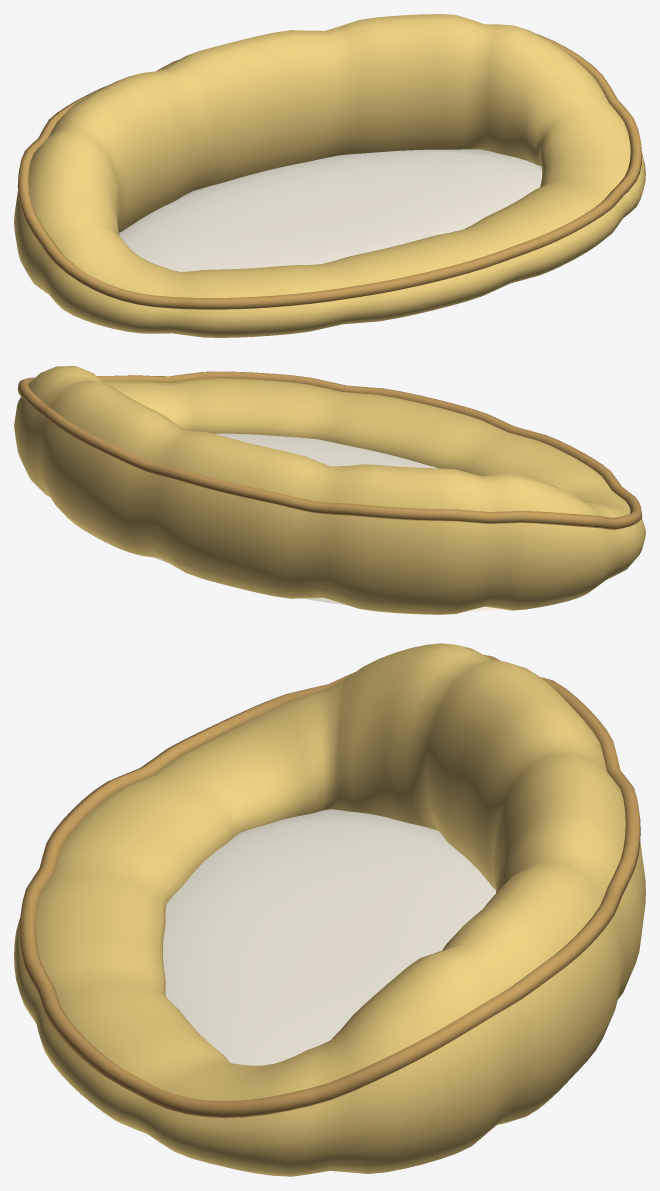
The model's file is bed.glb.
3 renders of one model, top to bottom at view 1: azimuth 30°, elevation 25°; view 2: azimuth 150°, elevation 25°; view 3: azimuth 270°, elevation 25°, orthographic. The views are drawn at different scales.
Parts seen in each view (by area): view 1: Bed; view 2: Bed; view 3: Bed.
Part boxes in pixels (box(x1,y1,x2,y2)): Bed: box(14, 14, 645, 337); Bed: box(14, 366, 645, 614); Bed: box(14, 643, 645, 1176).
Bounding box in the file's own units: 1.82 × 0.4168 × 1.18.
